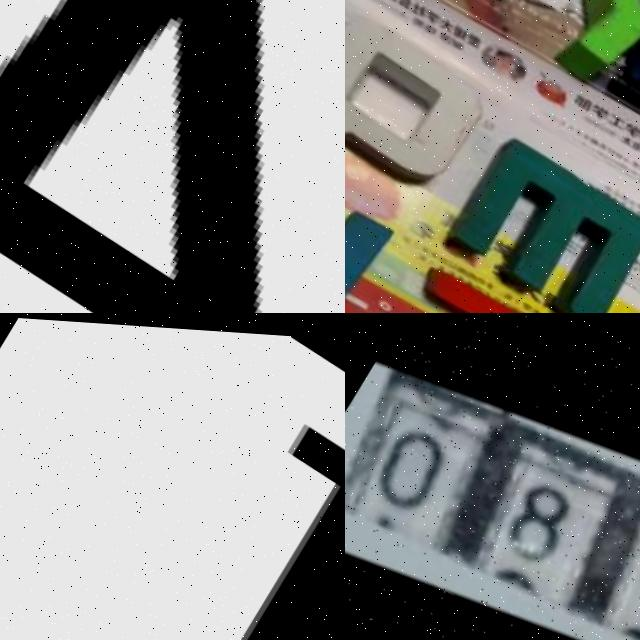0: (351, 396, 482, 538)
1: (605, 505, 640, 640)
8: (479, 447, 612, 589)
A: (0, 0, 345, 313)
E: (363, 248, 602, 313)
J: (23, 393, 345, 640)
M: (436, 112, 640, 313)
Q: (345, 0, 490, 206)
T: (594, 13, 640, 184)
V: (345, 140, 402, 313)
Y: (529, 0, 640, 106)
